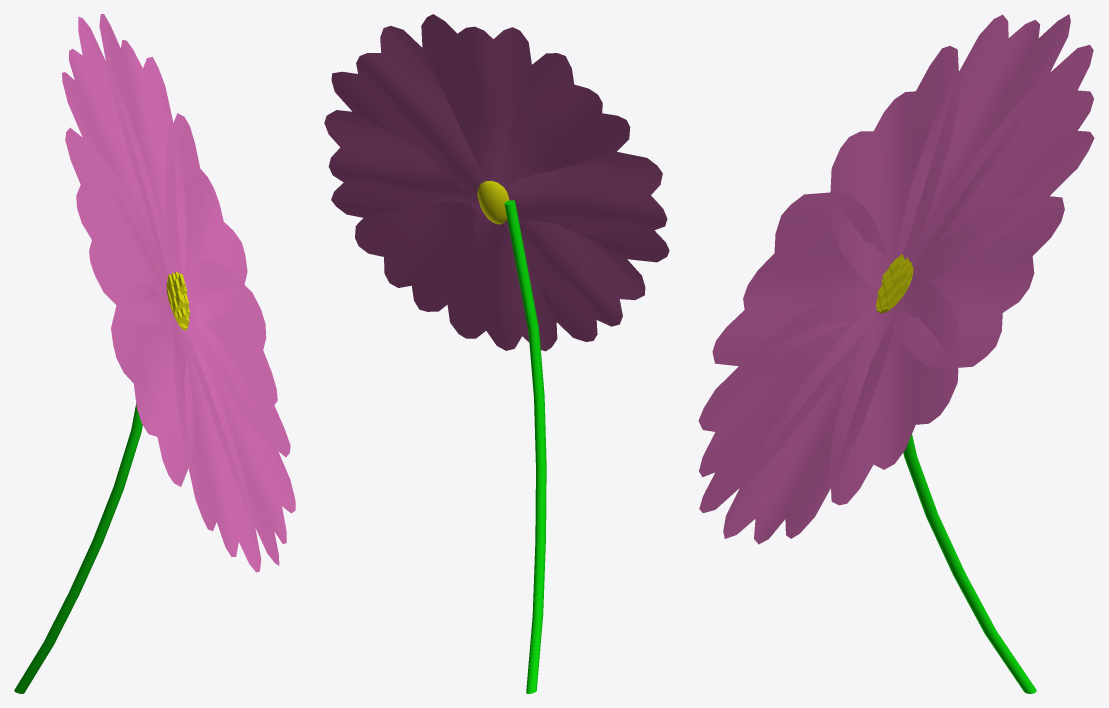
The model's file is cosmos.fbx.
3 views of the same model, side by side, from view 1: azimuth 30°, elevation 25°; view 2: azimuth 150°, elevation 25°; view 3: azimuth 270°, elevation 25° (orthographic). The views are drawn at different scales.
Parts seen in each view (by area): view 1: pPlane7, pPlane1, pPlane6, pPlane8, pPlane5, pPlane3, pPlane2, pPlane4, kuki, pSphere1; view 2: pPlane8, pPlane5, pPlane6, pPlane7, pPlane4, pPlane1, pPlane3, pPlane2, kuki, pSphere1; view 3: pPlane7, pPlane1, pPlane6, pPlane3, pPlane5, pPlane4, pPlane8, pPlane2, kuki, pSphere1.
Boxes of the visible parts, x1=… form: pPlane7: x1=65, y1=127, x2=173, y2=325; pPlane1: x1=172, y1=314, x2=261, y2=572; pPlane6: x1=62, y1=16, x2=169, y2=294; pPlane8: x1=111, y1=283, x2=193, y2=486; pPlane5: x1=99, y1=14, x2=186, y2=277; pPlane3: x1=182, y1=259, x2=290, y2=457; pPlane2: x1=180, y1=322, x2=295, y2=565; pPlane4: x1=165, y1=113, x2=247, y2=323; kuki: x1=14, y1=403, x2=142, y2=693; pSphere1: x1=166, y1=272, x2=189, y2=330; pPlane8: x1=509, y1=152, x2=669, y2=262; pPlane5: x1=331, y1=25, x2=491, y2=196; pPlane6: x1=421, y1=14, x2=531, y2=188; pPlane7: x1=502, y1=53, x2=630, y2=200; pPlane4: x1=324, y1=110, x2=478, y2=217; pPlane1: x1=502, y1=196, x2=645, y2=341; pPlane3: x1=355, y1=201, x2=477, y2=311; pPlane2: x1=447, y1=200, x2=557, y2=351; kuki: x1=504, y1=200, x2=546, y2=693; pSphere1: x1=477, y1=181, x2=509, y2=224; pPlane7: x1=829, y1=46, x2=959, y2=287; pPlane1: x1=698, y1=286, x2=880, y2=512; pPlane6: x1=895, y1=14, x2=1070, y2=266; pPlane3: x1=829, y1=277, x2=959, y2=505; pPlane5: x1=912, y1=45, x2=1094, y2=281; pPlane4: x1=890, y1=194, x2=1064, y2=368; pPlane8: x1=712, y1=192, x2=886, y2=366; pPlane2: x1=723, y1=303, x2=893, y2=544; kuki: x1=903, y1=434, x2=1036, y2=693; pSphere1: x1=876, y1=254, x2=913, y2=313.
Size of the model in its own units: 27.65 by 76.78 by 38.32.
